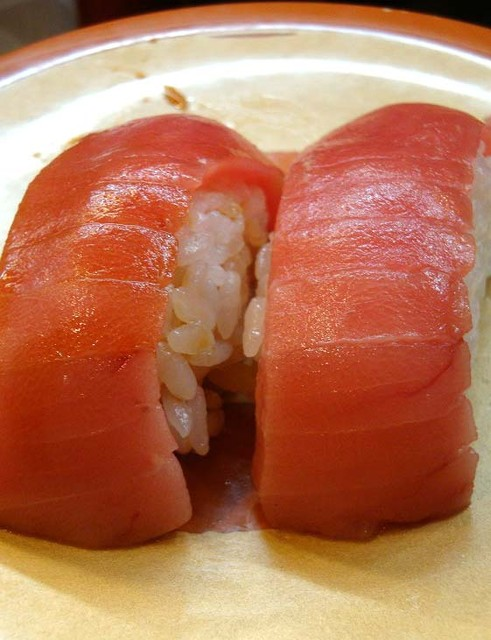medium_fatty_tuna: (1, 112, 248, 546), (263, 107, 491, 534)
